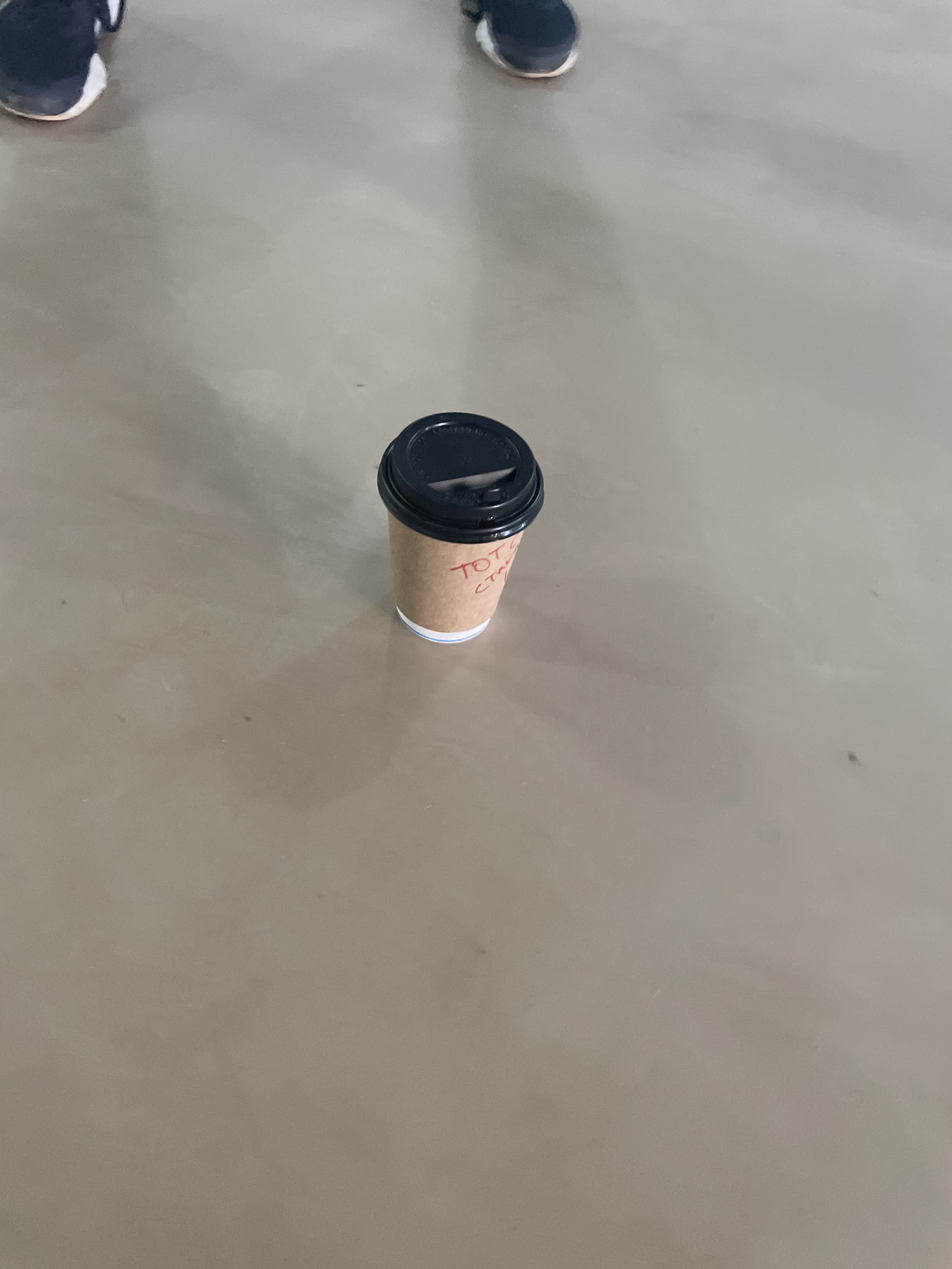cup: (376, 412, 545, 645)
